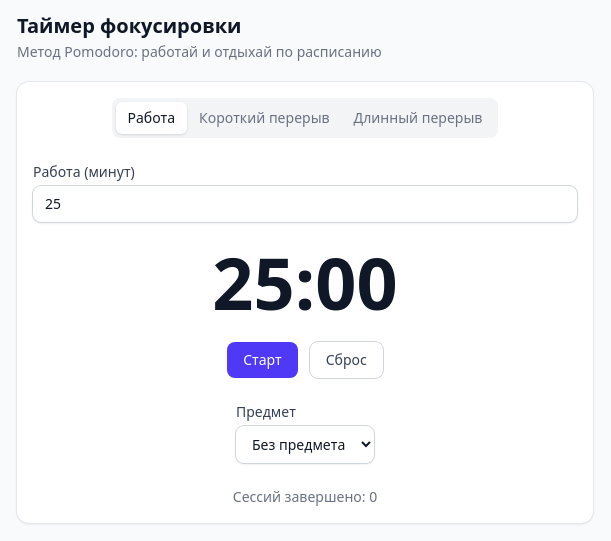
it: FocusPage › switches the duration input when the mode tab changes
Step 1. Click the button "Короткий перерыв" → (264, 118), box [187, 102, 342, 134]
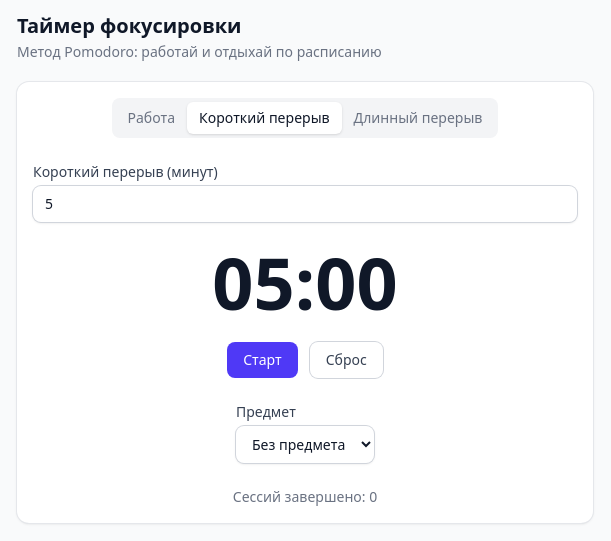
expect the number field labelled "Короткий перерыв (минут)" holds "5": met, box [33, 186, 577, 222]
